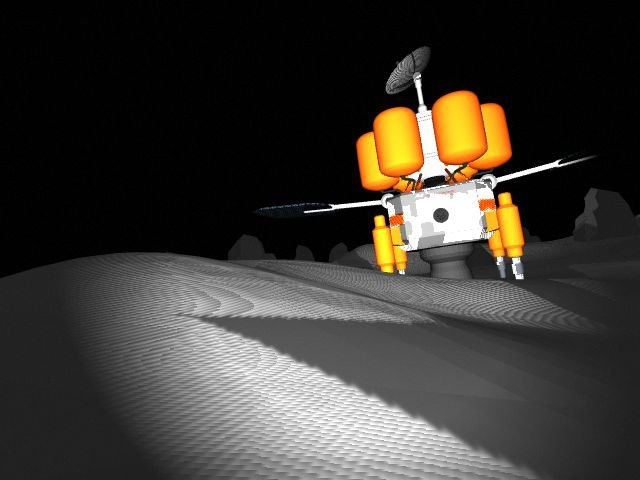homebase: (240, 45, 635, 287)
